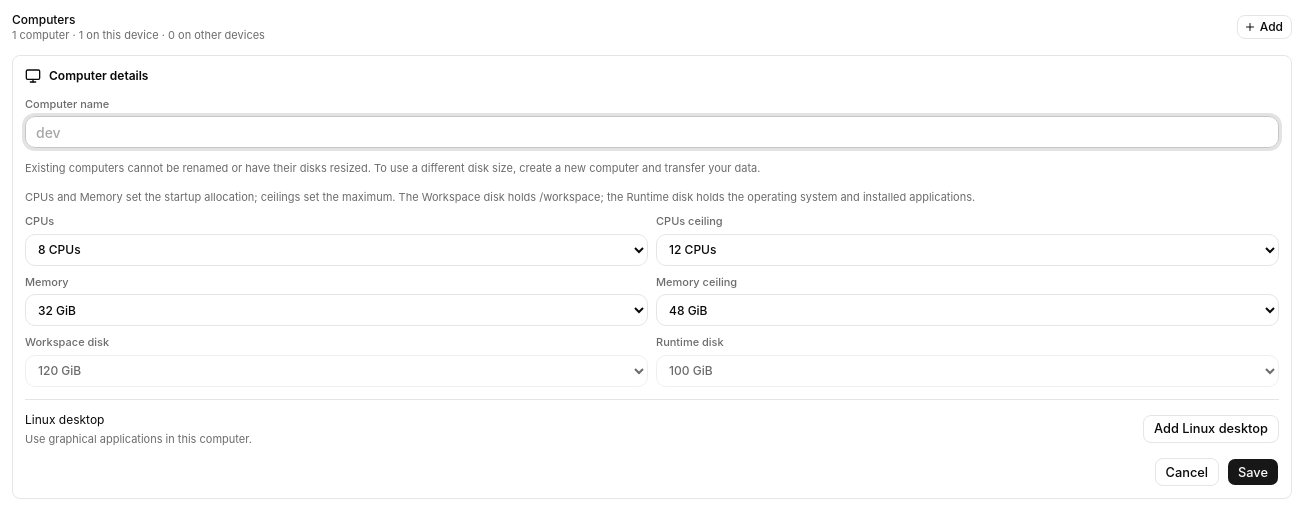
configuration editor while saving › locks every field until the save settles
Select "2 CPUs" in the dropdown named "CPUs" at (336, 250), box [25,234,648,266]
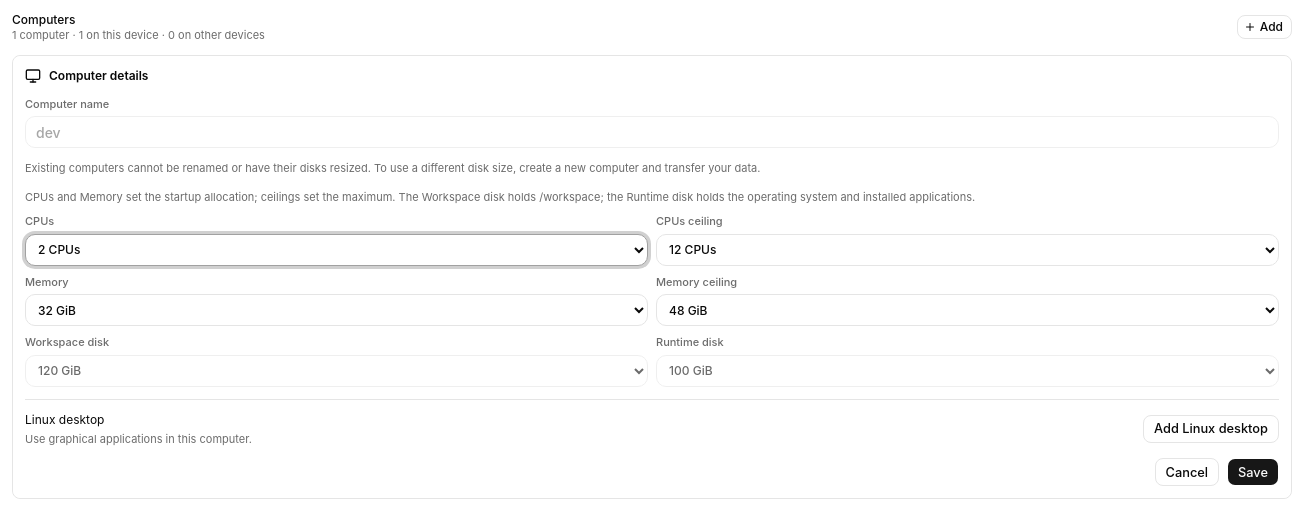
Click the button "Save" at (1253, 472), box [1227,458,1279,486]
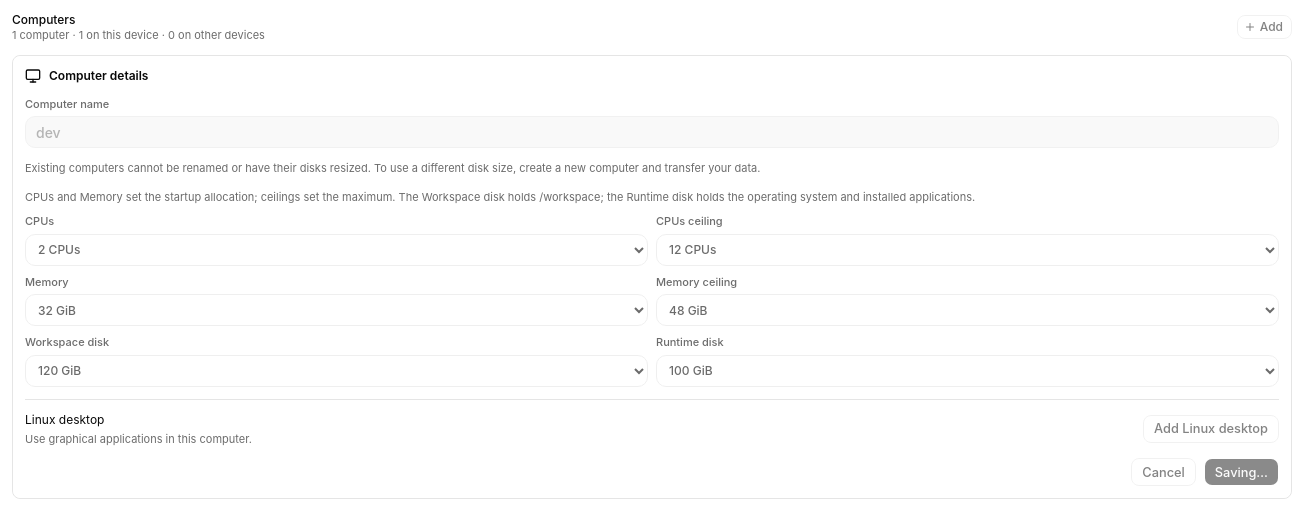
Expected: the dropdown named "CPUs" is disabled, [25,234,648,266]
Expected: the button "Saving…" is disabled, [1204,458,1279,486]
